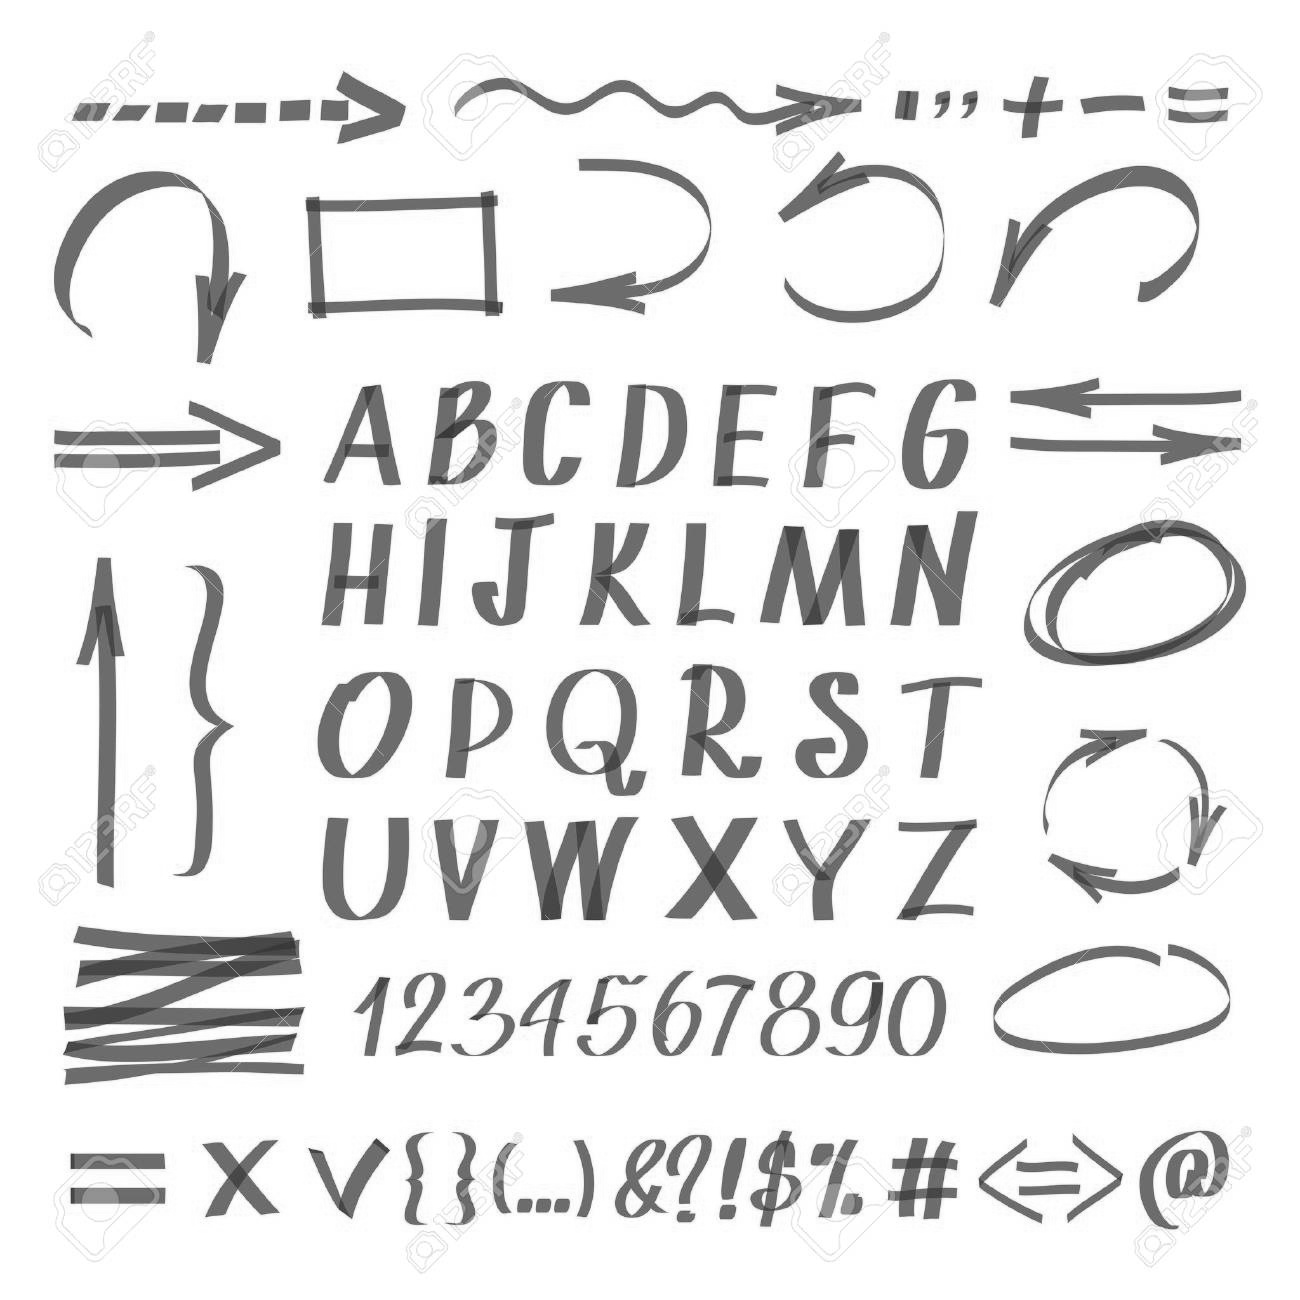arrow: (43, 162, 257, 383), (985, 155, 1215, 329), (443, 62, 865, 151), (56, 58, 421, 154), (767, 154, 957, 335), (539, 154, 725, 327), (29, 389, 310, 494), (64, 546, 140, 901), (1023, 717, 1154, 843), (987, 419, 1260, 475), (1000, 367, 1260, 423), (1155, 730, 1246, 881), (1029, 849, 1193, 925)
